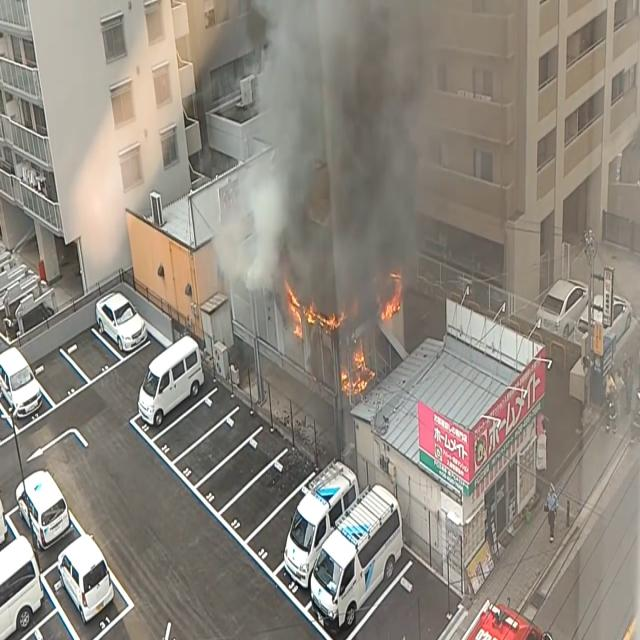Fire: (281, 278, 343, 337), (340, 339, 373, 399), (380, 262, 406, 329)
Smoke: (205, 0, 450, 332)
